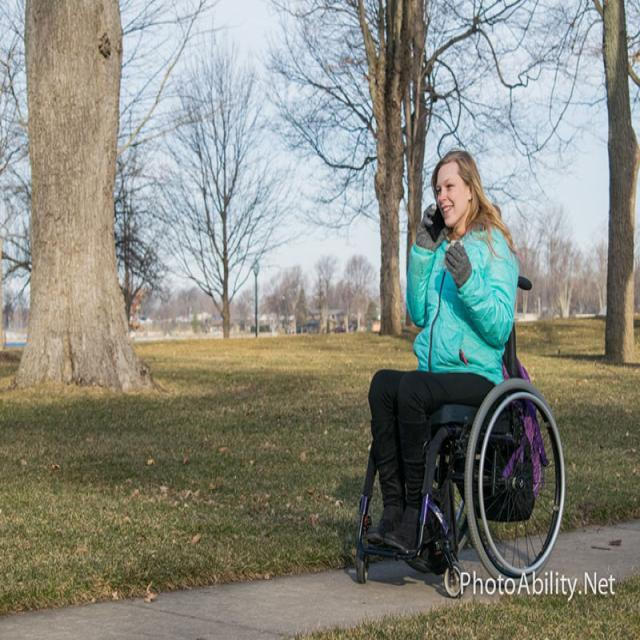wheelchairs: (351, 262, 571, 603)
